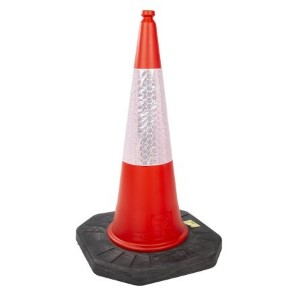traffic cone: (76, 10, 222, 286)
